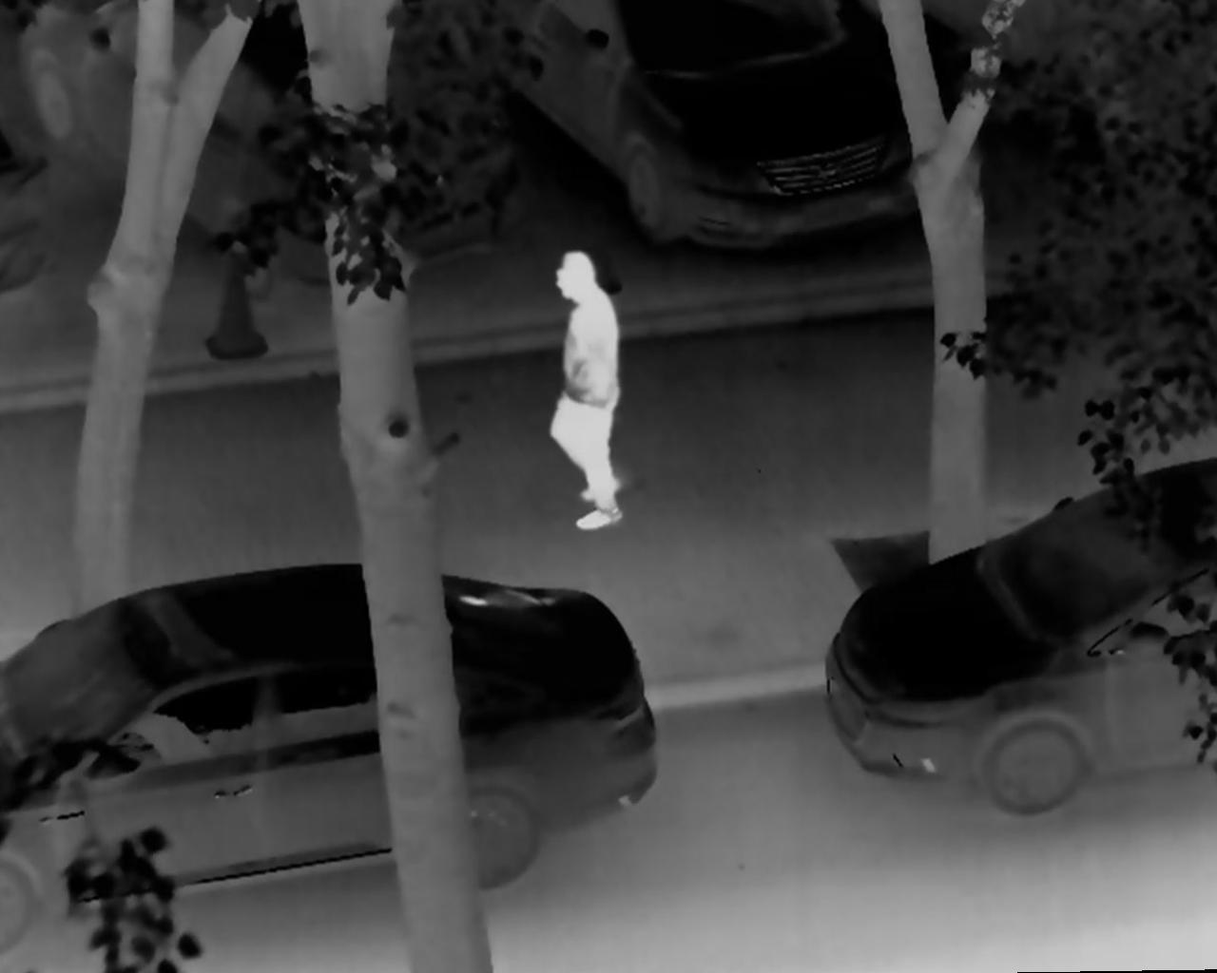person: (538, 250, 629, 531)
